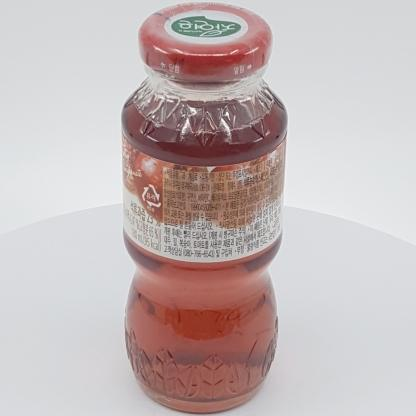-------180ML: (120, 2, 288, 413)
